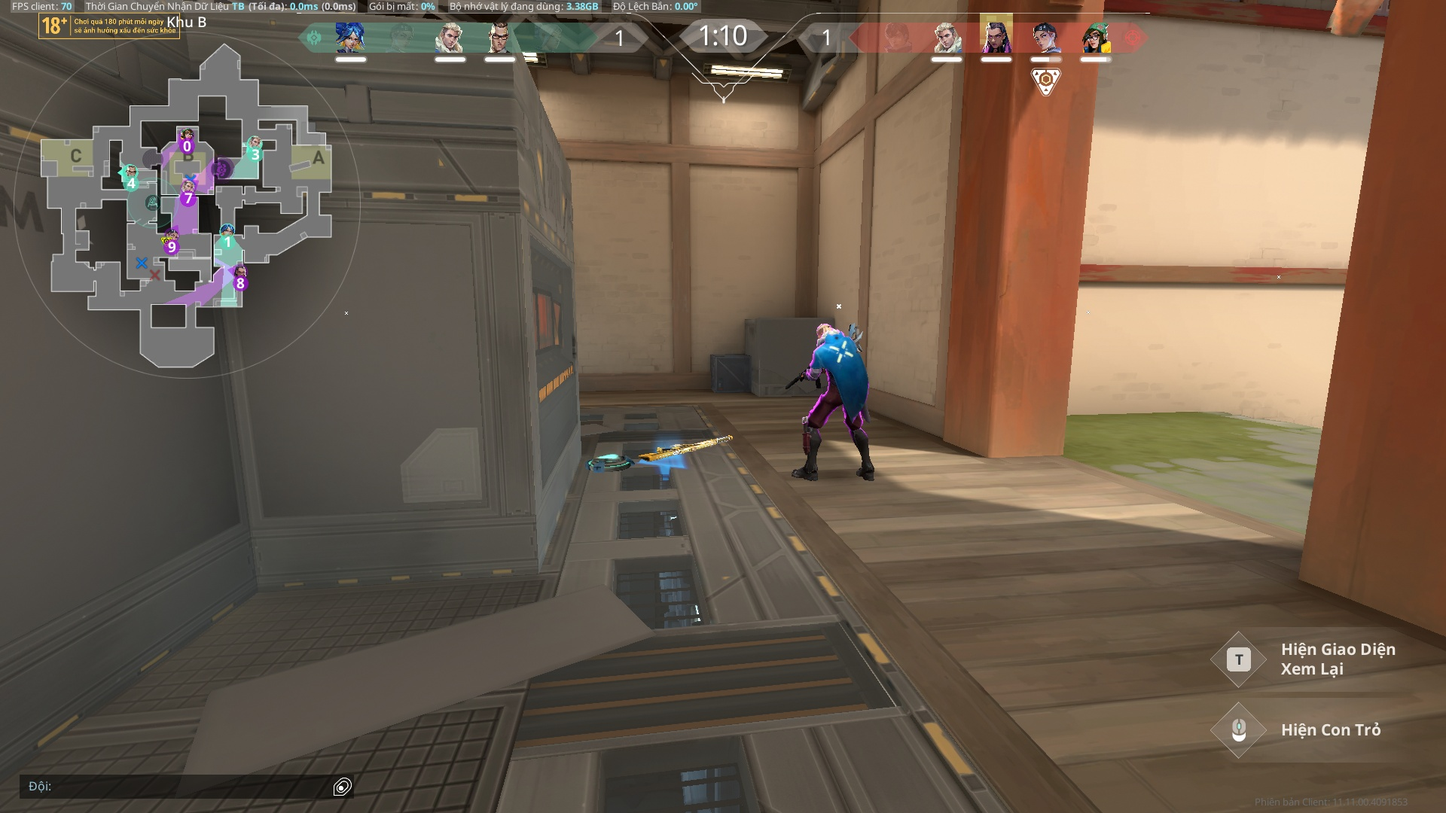body: (819, 336, 867, 384)
head: (814, 323, 837, 339)
